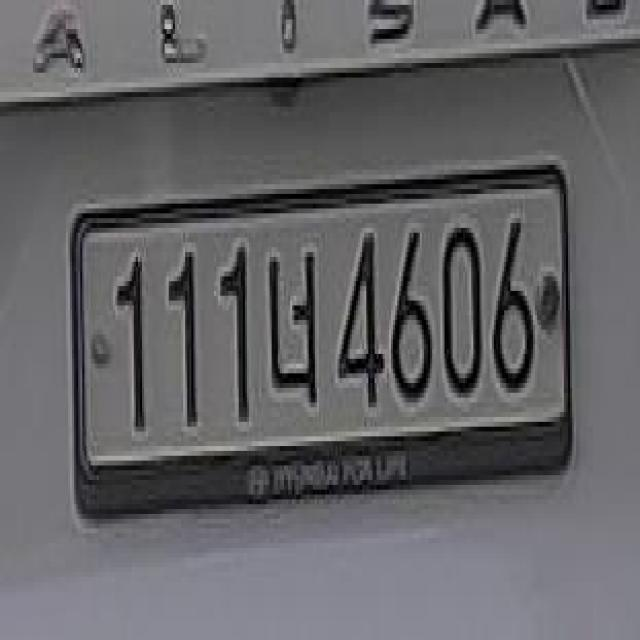illegal_plate: (67, 160, 569, 518)
